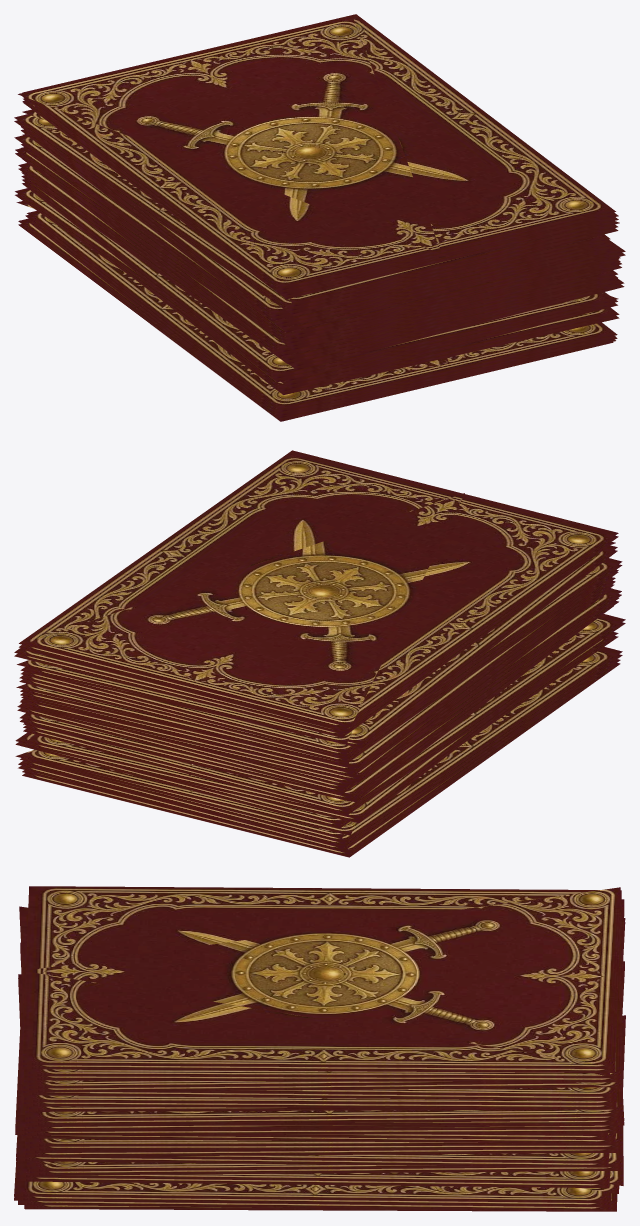
The model's file is card-deck.lod1.glb.
3 views of the same model, one above another, from view 1: azimuth 30°, elevation 25°; view 2: azimuth 150°, elevation 25°; view 3: azimuth 270°, elevation 25° (orthographic). The views are drawn at different scales.
Parts seen in each view (by area): view 1: deck; view 2: deck; view 3: deck.
Boxes of the visible parts, x1=… form: deck: x1=14, y1=14, x2=625, y2=421; deck: x1=14, y1=450, x2=625, y2=857; deck: x1=14, y1=886, x2=625, y2=1211.
Bounding box in the file's own units: 0.9525 × 0.3402 × 1.3.
1 material, 1 textured.
